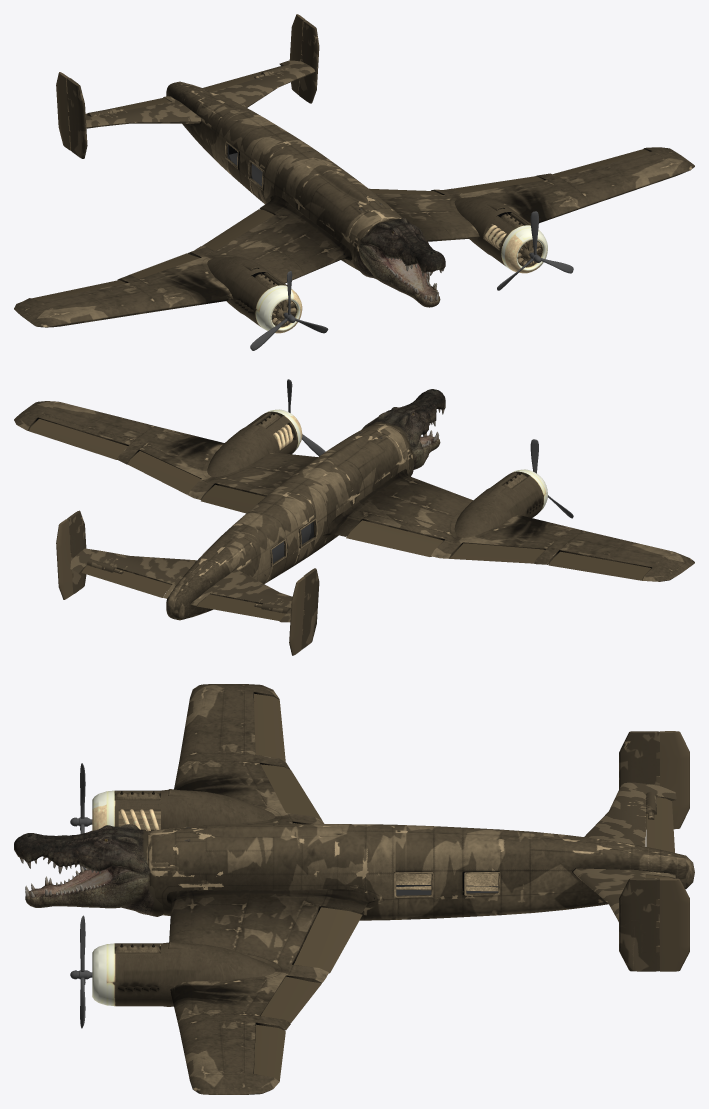
3 views of the same model, one above another, from view 1: azimuth 30°, elevation 25°; view 2: azimuth 150°, elevation 25°; view 3: azimuth 270°, elevation 25° (orthographic). The views are drawn at different scales.
Visible parts, largest first — view 1: Cube.004_Fusil.001_0; view 2: Cube.004_Fusil.001_0; view 3: Cube.004_Fusil.001_0.
Part boxes in pixels (box(x1,y1,x2,y2)): Cube.004_Fusil.001_0: box(14, 14, 694, 350); Cube.004_Fusil.001_0: box(14, 379, 694, 655); Cube.004_Fusil.001_0: box(14, 684, 694, 1094).
Bounding box in the file's own units: 47.53 × 6.75 × 33.35.
Materials: 9 (5 with a texture image).
